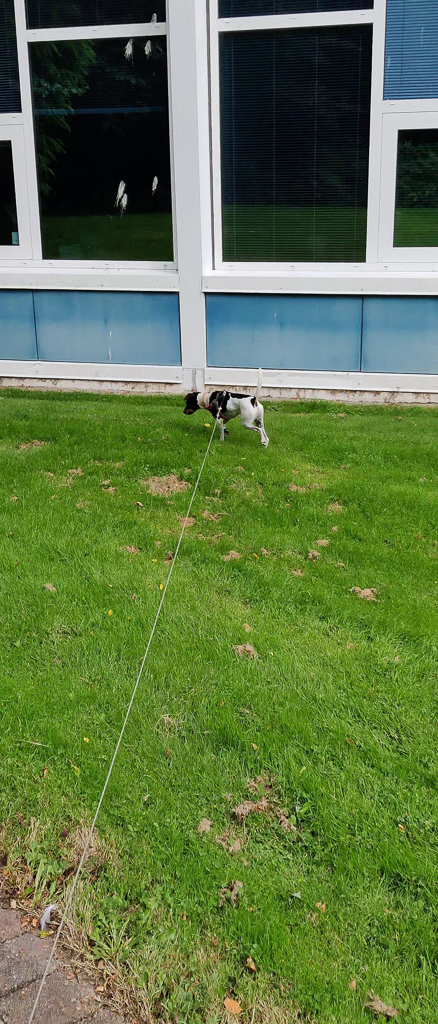Dog: (171, 357, 279, 457)
